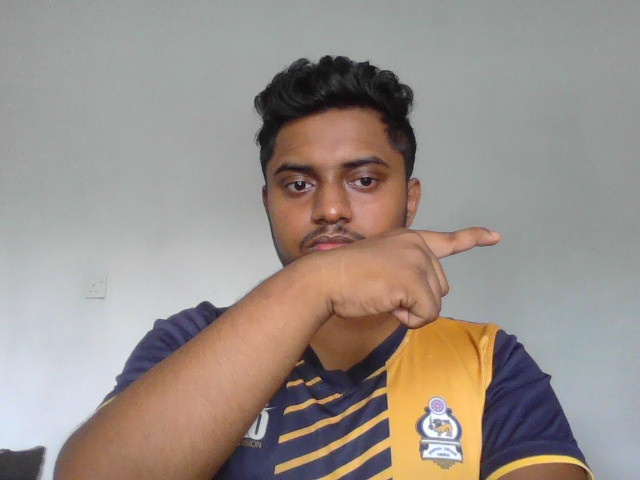Going To: (296, 225, 504, 334)
